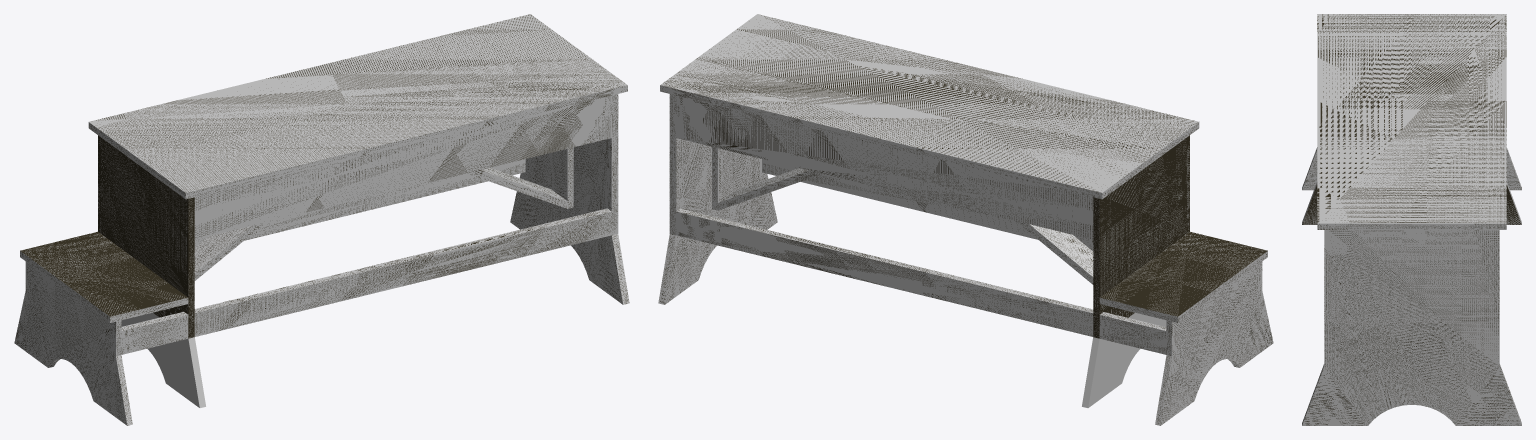
3 renders of one model, left to right at view 1: azimuth 30°, elevation 25°; view 2: azimuth 150°, elevation 25°; view 3: azimuth 270°, elevation 25°, orthographic. The views are drawn at different scales.
Visible parts, largest first — view 1: mesh1_mesh1-geometry; view 2: mesh1_mesh1-geometry; view 3: mesh1_mesh1-geometry.
Boxes of the visible parts, box(x1,y1,x2,y2) form: mesh1_mesh1-geometry: box(14, 14, 629, 425); mesh1_mesh1-geometry: box(658, 14, 1273, 425); mesh1_mesh1-geometry: box(1302, 14, 1521, 425).
Size of the model in its own units: 0.8775 by 0.344 by 0.3341.
